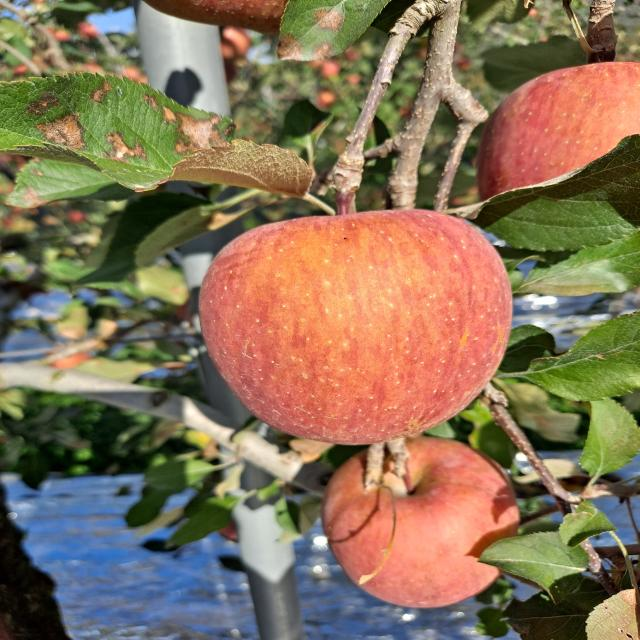fresh: (192, 198, 524, 449), (312, 433, 530, 611)
